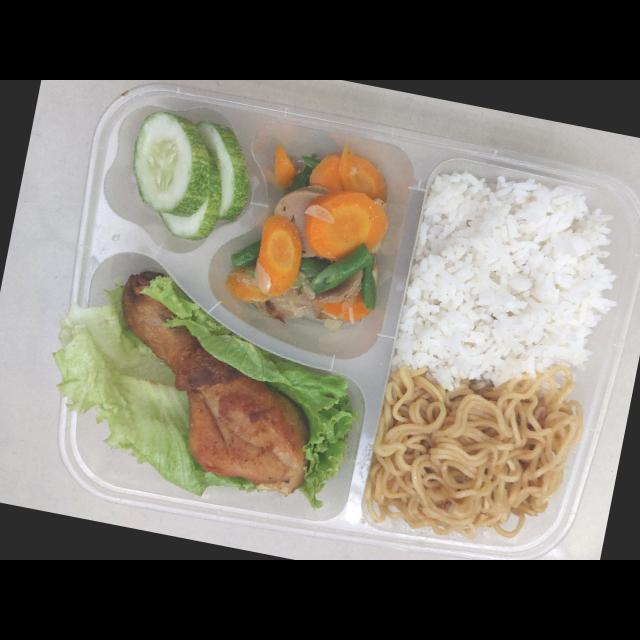bento: (18, 80, 640, 560)
